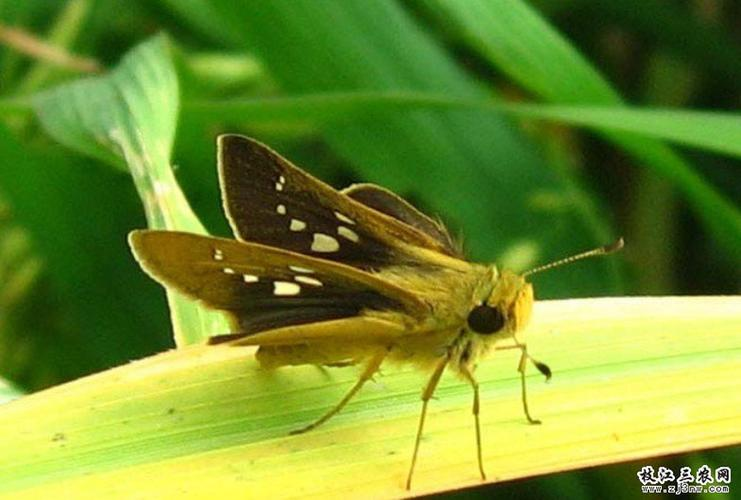Hesperiidae: (123, 128, 628, 490)
